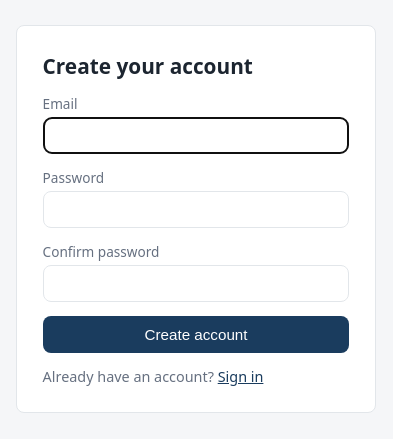
Test: <Register /> › surfaces a 409 from the server
The image size is (393, 439).
Step 1. Type "taken@example.com" into the field labelled "Email" → (196, 135), box [43,117,349,154]
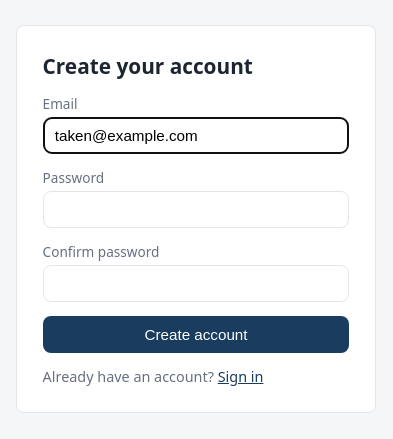
Step 2. Type "longenough1" into the password field labelled "Password" → (196, 209), box [43,191,349,228]
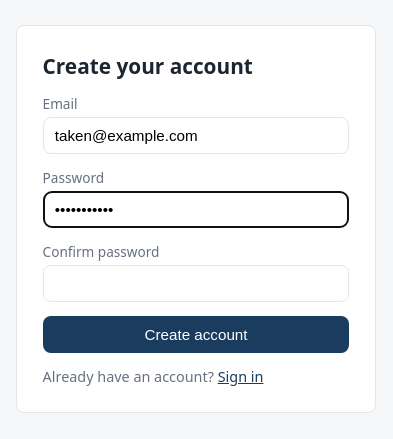
Step 3. Type "longenough1" into the password field labelled "Confirm password" → (196, 283), box [43,265,349,302]
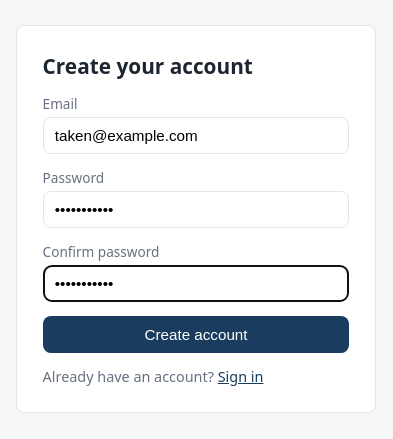
Step 4. Click the button "Create account" → (196, 334), box [43,316,349,352]
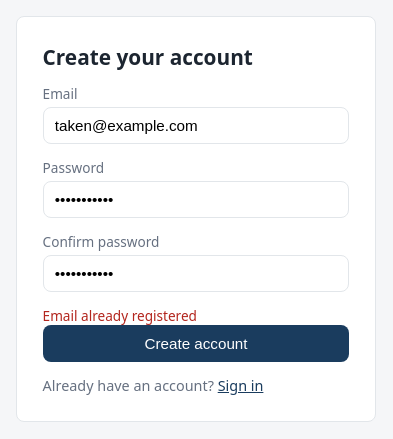
expect the text "Email already registered" is shown: met, box [43,306,197,325]
